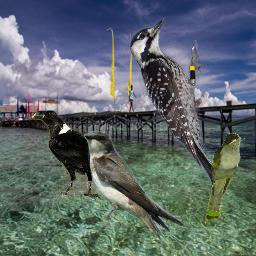Crow: (31, 110, 137, 200)
Cuckoo: (205, 133, 246, 226)
Swallow: (84, 131, 185, 242)
Woodpecker: (129, 17, 216, 184)
